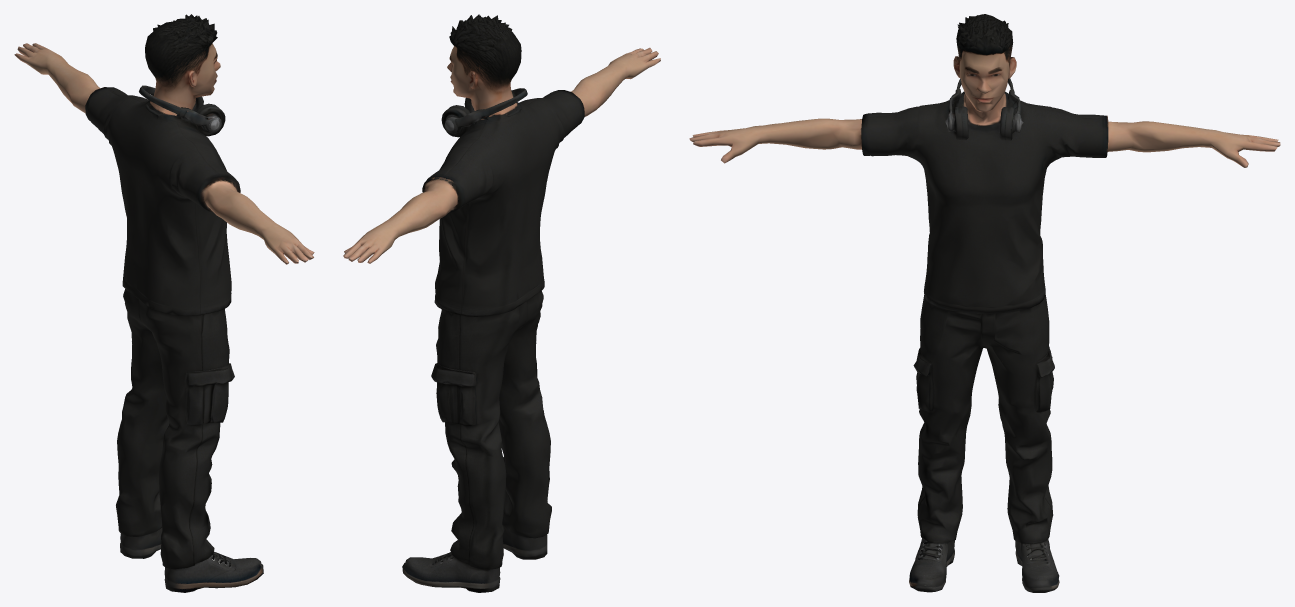
The model's file is crew_camera.glb.
3 renders of one model, left to right at view 1: azimuth 30°, elevation 25°; view 2: azimuth 150°, elevation 25°; view 3: azimuth 270°, elevation 25°, orthographic.
Parts seen in each view (by area): view 1: tripo_node_35e41513-211e-4868-8798-b76ba9d89d77; view 2: tripo_node_35e41513-211e-4868-8798-b76ba9d89d77; view 3: tripo_node_35e41513-211e-4868-8798-b76ba9d89d77.
Part boxes in pixels (x1,y1,x2,y2): tripo_node_35e41513-211e-4868-8798-b76ba9d89d77: [14, 14, 314, 592]; tripo_node_35e41513-211e-4868-8798-b76ba9d89d77: [343, 14, 660, 592]; tripo_node_35e41513-211e-4868-8798-b76ba9d89d77: [689, 14, 1280, 592].
Size of the model in its own units: 0.1942 by 0.9988 by 0.9605.
Materials: 1 (1 with a texture image).
